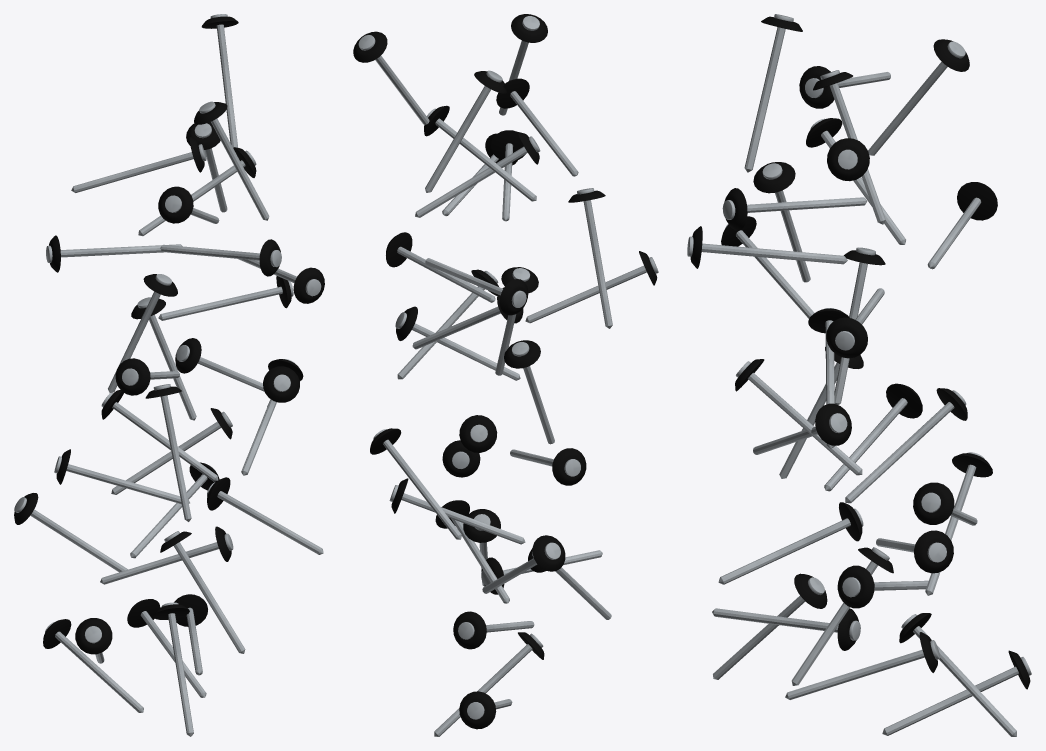
Rendered from COB-ACS-004_anim.glb.
3 renders of one model, left to right at view 1: azimuth 30°, elevation 25°; view 2: azimuth 150°, elevation 25°; view 3: azimuth 270°, elevation 25°, orthographic. The views are drawn at different scales.
Visible parts, largest first — view 1: COB-ACS-004_anim23, COB-ACS-004_anim9, COB-ACS-004_anim28, COB-ACS-004_anim0, COB-ACS-004_anim3, COB-ACS-004_anim7, COB-ACS-004_anim27, COB-ACS-004_anim29, COB-ACS-004_anim19, COB-ACS-004_anim6, COB-ACS-004_anim5, COB-ACS-004_anim13 (+18 smaller); view 2: COB-ACS-004_anim29, COB-ACS-004_anim13, COB-ACS-004_anim21, COB-ACS-004_anim10, COB-ACS-004_anim7, COB-ACS-004_anim26, COB-ACS-004_anim27, COB-ACS-004_anim2, COB-ACS-004_anim20, COB-ACS-004_anim11, COB-ACS-004_anim19, COB-ACS-004_anim25 (+18 smaller); view 3: COB-ACS-004_anim23, COB-ACS-004_anim9, COB-ACS-004_anim29, COB-ACS-004_anim12, COB-ACS-004_anim21, COB-ACS-004_anim11, COB-ACS-004_anim14, COB-ACS-004_anim22, COB-ACS-004_anim4, COB-ACS-004_anim2, COB-ACS-004_anim6, COB-ACS-004_anim28 (+18 smaller).
Part boxes in pixels (x1,y1,x2,y2): COB-ACS-004_anim23: (160,239,281,276); COB-ACS-004_anim9: (207,477,323,554); COB-ACS-004_anim28: (194,101,269,220); COB-ACS-004_anim0: (43,619,143,712); COB-ACS-004_anim3: (153,602,193,736); COB-ACS-004_anim7: (14,493,127,572); COB-ACS-004_anim27: (71,137,206,192); COB-ACS-004_anim29: (201,14,238,147); COB-ACS-004_anim19: (158,276,293,320); COB-ACS-004_anim6: (100,526,233,584); COB-ACS-004_anim5: (160,531,245,653); COB-ACS-004_anim13: (145,384,191,521); COB-ACS-004_anim29: (353,31,429,124); COB-ACS-004_anim13: (504,340,554,444); COB-ACS-004_anim21: (425,258,528,315); COB-ACS-004_anim10: (370,428,461,539); COB-ACS-004_anim7: (482,535,565,593); COB-ACS-004_anim26: (425,70,507,192); COB-ACS-004_anim27: (496,78,578,176); COB-ACS-004_anim2: (453,611,534,649); COB-ACS-004_anim20: (568,188,612,328); COB-ACS-004_anim11: (510,448,586,485); COB-ACS-004_anim19: (386,232,495,302); COB-ACS-004_anim25: (424,105,536,201); COB-ACS-004_anim23: (722,188,867,230); COB-ACS-004_anim9: (718,502,863,584); COB-ACS-004_anim29: (868,39,969,155); COB-ACS-004_anim12: (845,388,967,503); COB-ACS-004_anim21: (927,182,997,269); COB-ACS-004_anim11: (824,383,922,491); COB-ACS-004_anim14: (753,403,851,454); COB-ACS-004_anim22: (687,226,847,268); COB-ACS-004_anim4: (712,608,860,650); COB-ACS-004_anim2: (785,632,939,699); COB-ACS-004_anim6: (837,565,928,608); COB-ACS-004_anim28: (744,14,802,172).
Size of the model in its own units: 0.1179 by 0.3307 by 0.137.
Materials: 2 (2 with a texture image).
